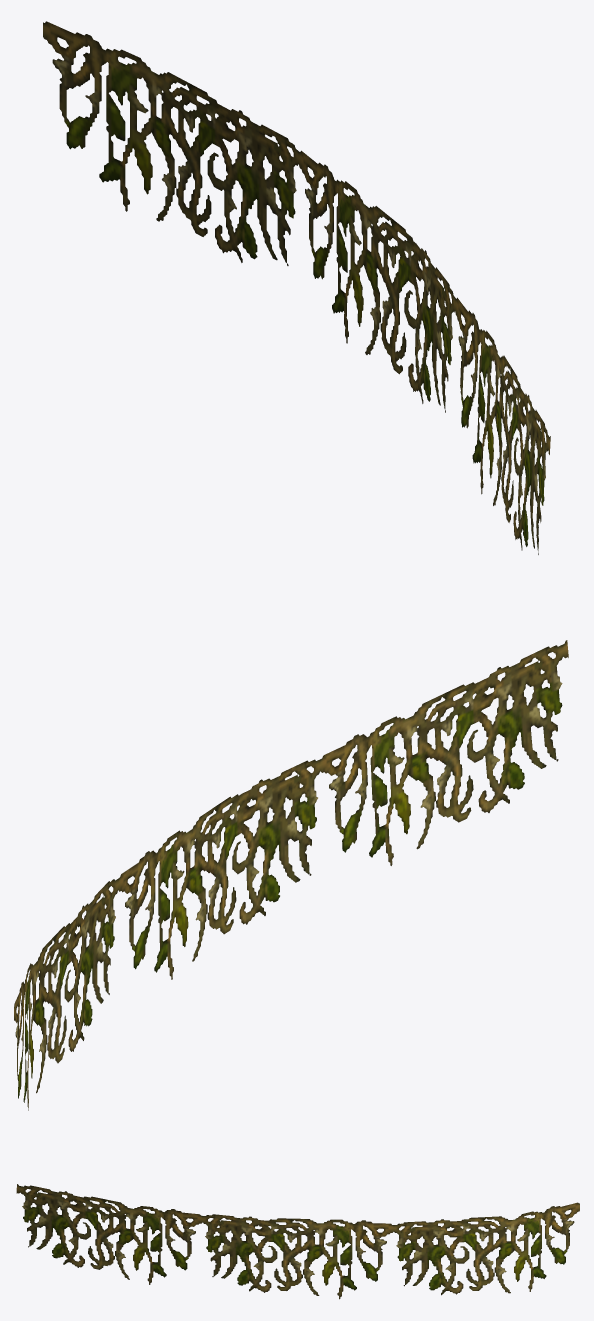
Rendered from OVERHILL_A_01_LINE108.fbx.
The picture shows the model from 3 angles, top to bottom: view 1: azimuth 30°, elevation 25°; view 2: azimuth 150°, elevation 25°; view 3: azimuth 270°, elevation 25°; orthographic projection. The views are drawn at different scales.
Visible parts, largest first — view 1: OVERHILL_A_01_LINE108; view 2: OVERHILL_A_01_LINE108; view 3: OVERHILL_A_01_LINE108.
Part boxes in pixels (left/top/right/bottom): OVERHILL_A_01_LINE108: left=43, top=21, right=550, bottom=554; OVERHILL_A_01_LINE108: left=14, top=640, right=568, bottom=1110; OVERHILL_A_01_LINE108: left=16, top=1184, right=579, bottom=1299.
Size of the model in its own units: 7057 by 9455 by 50677.
1 material, 1 textured.
